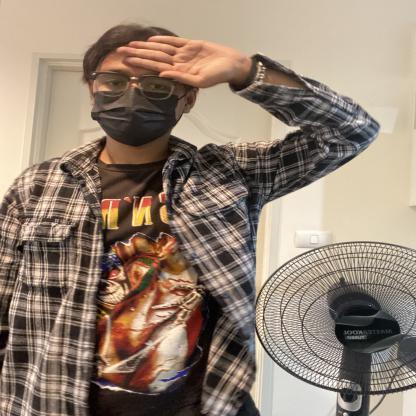Sick: (54, 14, 274, 120)
